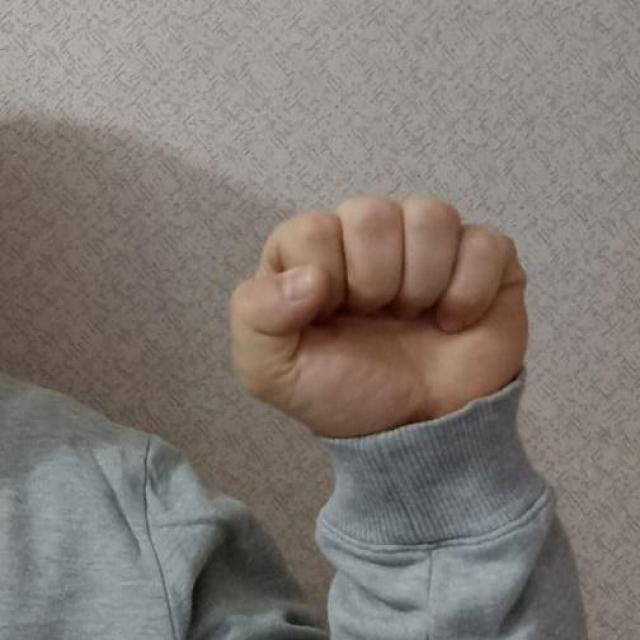hand: (228, 194, 530, 440)
